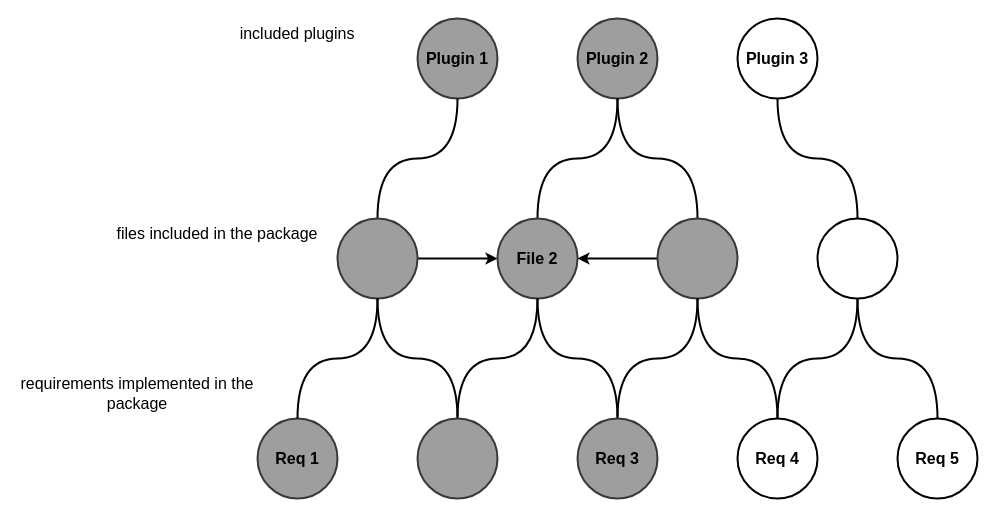
This 995x516 diagram has some shape labels left out. The box of each missing label's shape, as (x1, y1, x2, y2) in pixels:
File 1: (336, 217, 418, 299)
File 3: (656, 217, 738, 299)
File 4: (816, 217, 898, 299)
Req 2: (416, 417, 498, 499)
